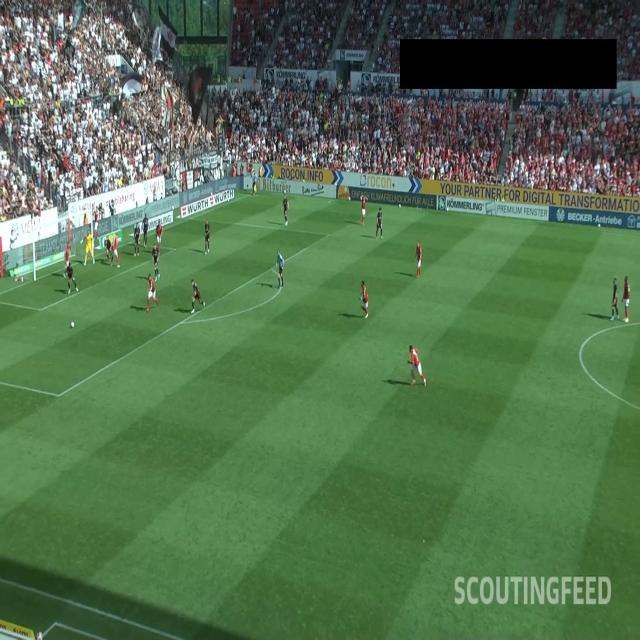ball: (71, 320, 74, 328)
